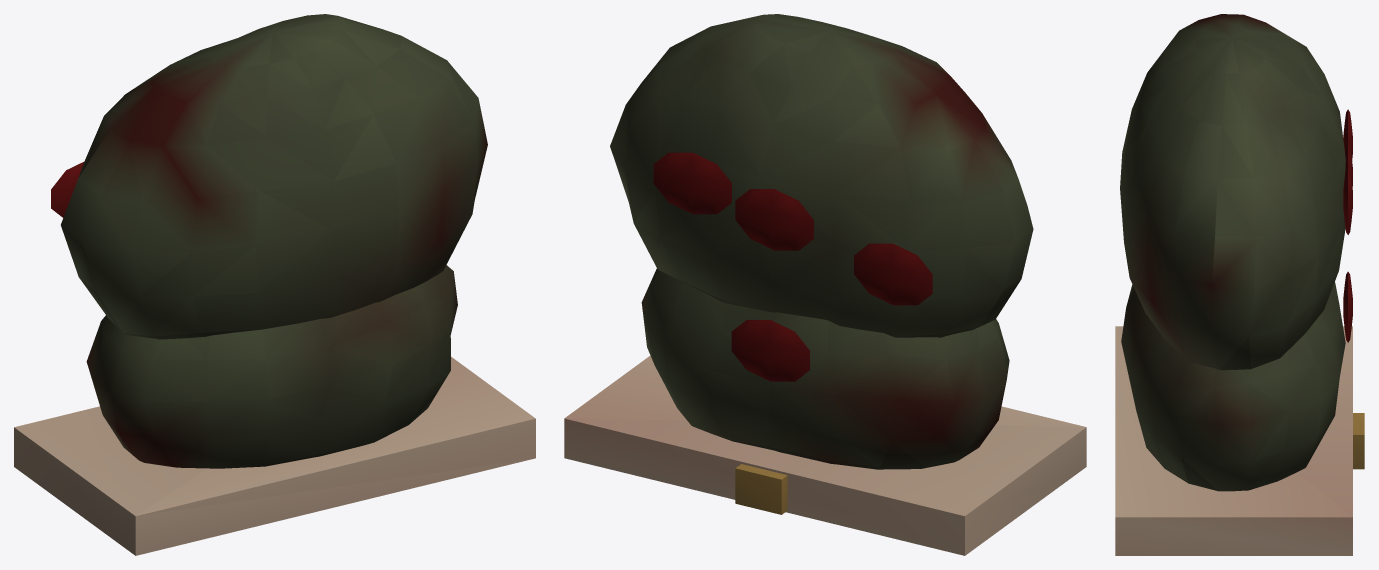
The model's file is HunterTorso.glb.
The picture shows the model from 3 angles, left to right: view 1: azimuth 30°, elevation 25°; view 2: azimuth 150°, elevation 25°; view 3: azimuth 270°, elevation 25°; orthographic projection. The views are drawn at different scales.
Parts seen in each view (by area): view 1: HunterTorso_shirtHunter, HunterTorso_leather, HunterTorso_blood; view 2: HunterTorso_shirtHunter, HunterTorso_leather, HunterTorso_blood, HunterTorso_brass; view 3: HunterTorso_shirtHunter, HunterTorso_leather, HunterTorso_blood, HunterTorso_brass.
Part boxes in pixels (x1,y1,x2,y2): HunterTorso_shirtHunter: (61, 14, 487, 468); HunterTorso_leather: (14, 357, 535, 555); HunterTorso_blood: (51, 162, 83, 217); HunterTorso_shirtHunter: (610, 14, 1033, 469); HunterTorso_leather: (564, 355, 1086, 555); HunterTorso_blood: (653, 152, 932, 381); HunterTorso_brass: (735, 464, 787, 514); HunterTorso_shirtHunter: (1120, 14, 1345, 491); HunterTorso_leather: (1115, 326, 1352, 555); HunterTorso_blood: (1343, 109, 1352, 342); HunterTorso_brass: (1353, 413, 1364, 469).
Bounding box in the file's own units: 1.93 × 2 × 1.05.
